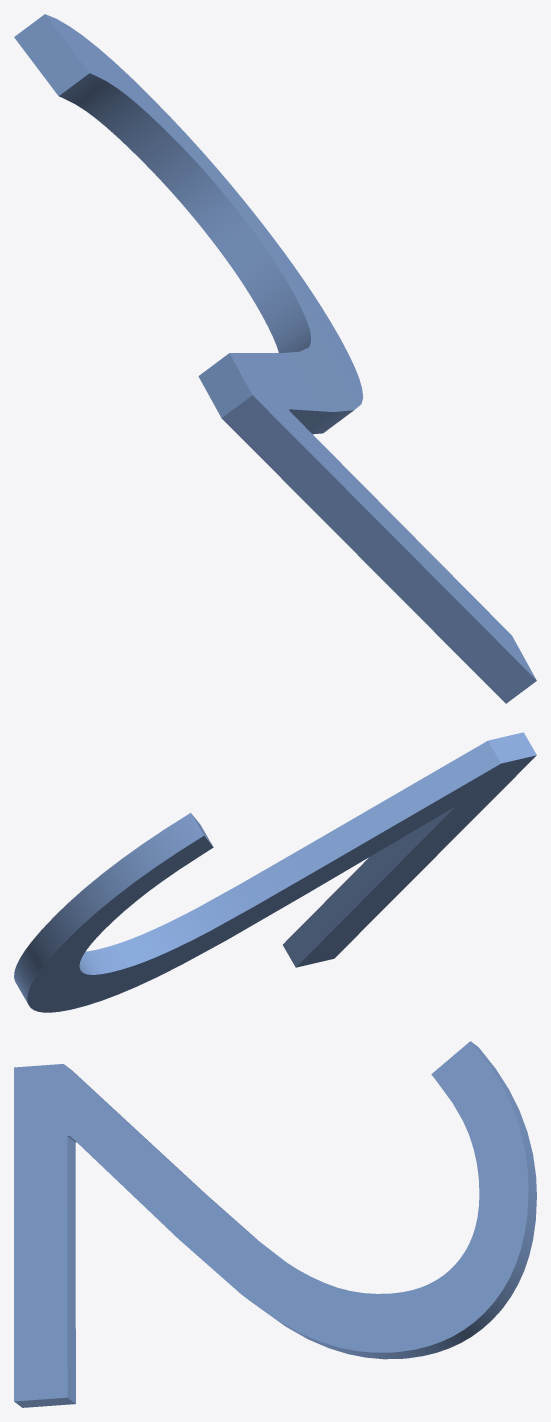
The model's file is New_Number_2.gltf.
3 renders of one model, top to bottom at view 1: azimuth 30°, elevation 25°; view 2: azimuth 150°, elevation 25°; view 3: azimuth 270°, elevation 25°, orthographic. The views are drawn at different scales.
Parts seen in each view (by area): view 1: Part 659; view 2: Part 659; view 3: Part 659.
Part boxes in pixels (x1=…): Part 659: x1=14, y1=14, x2=536, y2=703; Part 659: x1=14, y1=732, x2=536, y2=1012; Part 659: x1=14, y1=1041, x2=536, y2=1407.
Size of the model in its own units: 0.003 by 0.00342 by 0.00501.
